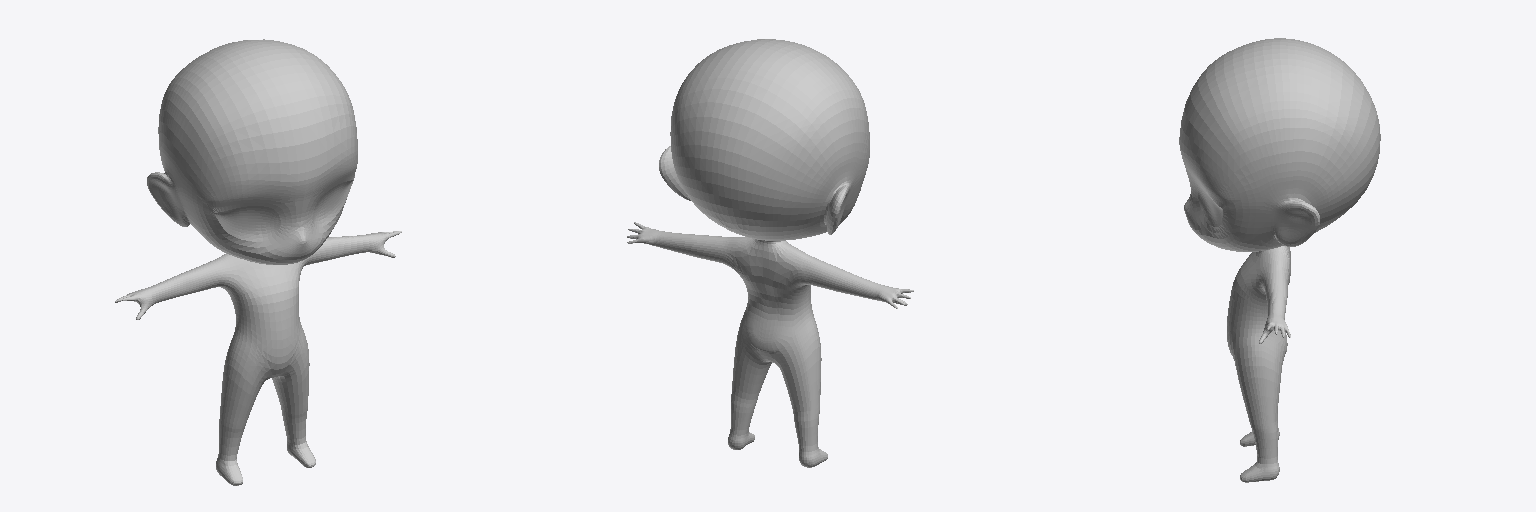
File: Chibi_hp.obj
3 renders of one model, left to right at view 1: azimuth 30°, elevation 25°; view 2: azimuth 150°, elevation 25°; view 3: azimuth 270°, elevation 25°, orthographic.
Parts seen in each view (by area): view 1: Retopology_hp_Plane.002; view 2: Retopology_hp_Plane.002; view 3: Retopology_hp_Plane.002.
Part boxes in pixels (x1,y1,x2,y2): Retopology_hp_Plane.002: (115, 39, 401, 485); Retopology_hp_Plane.002: (627, 39, 913, 467); Retopology_hp_Plane.002: (1179, 38, 1380, 482).
Bounding box in the file's own units: 1.18 × 1.65 × 0.7267.